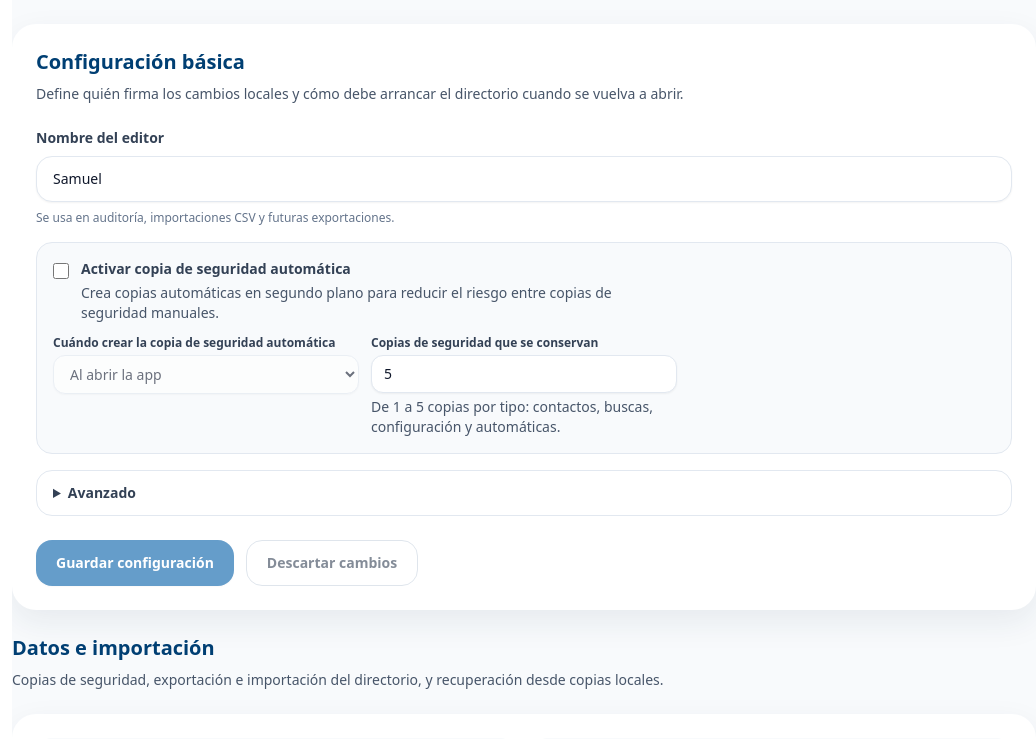
Test: SettingsPage › shows a save error without mutating the store
Expected: the heading "Configuración básica" is shown, [36,48,245,75]
Replace the text in the field labelled "Nombre del editor" with "Fallo" at (524, 179), box [36,156,1012,202]
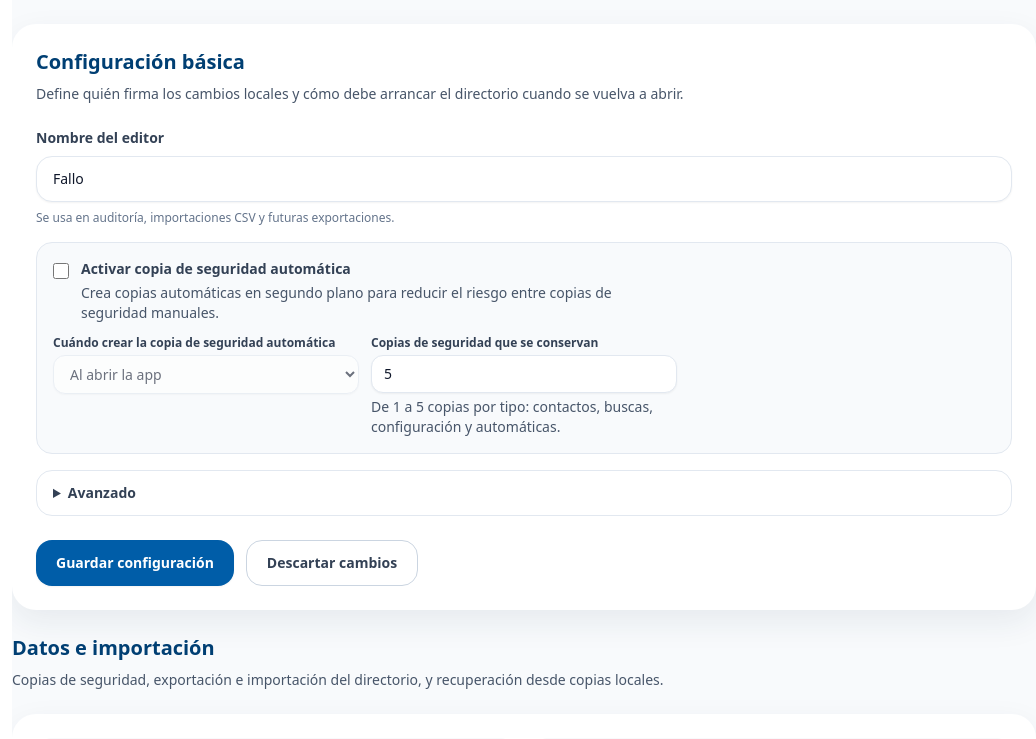
Click the button "Guardar configuración" at (135, 563), box [36,540,234,586]
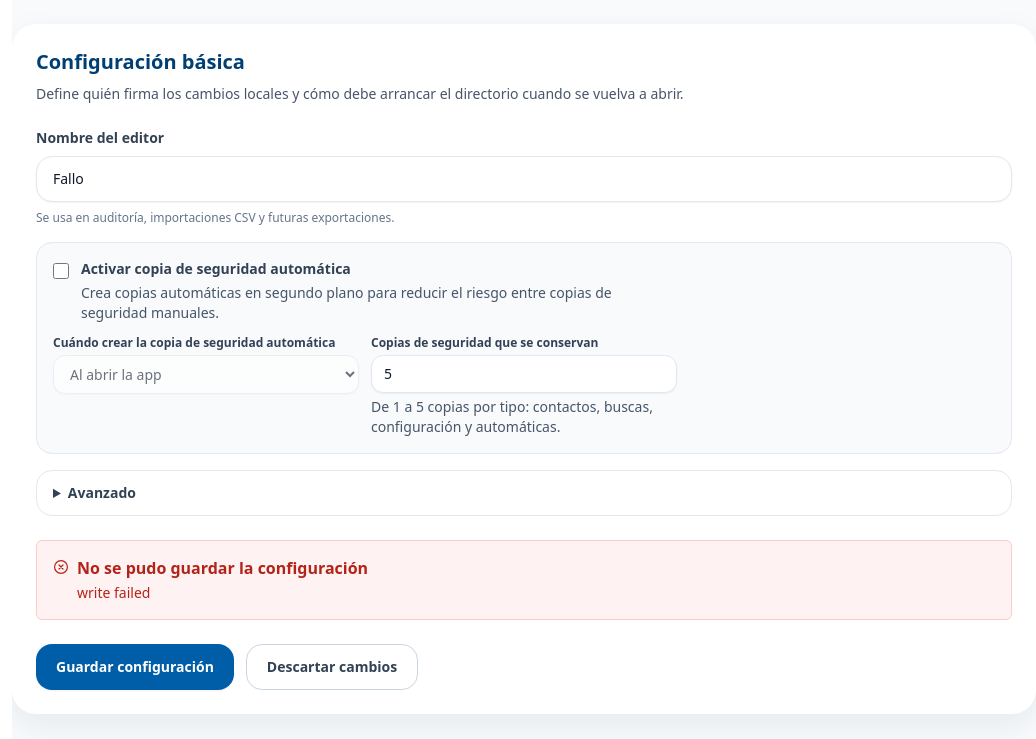
Expected: the heading "No se pudo guardar la configuración" is shown, [77,557,368,579]
Expected: the text "write failed" is shown, [77,583,150,602]
